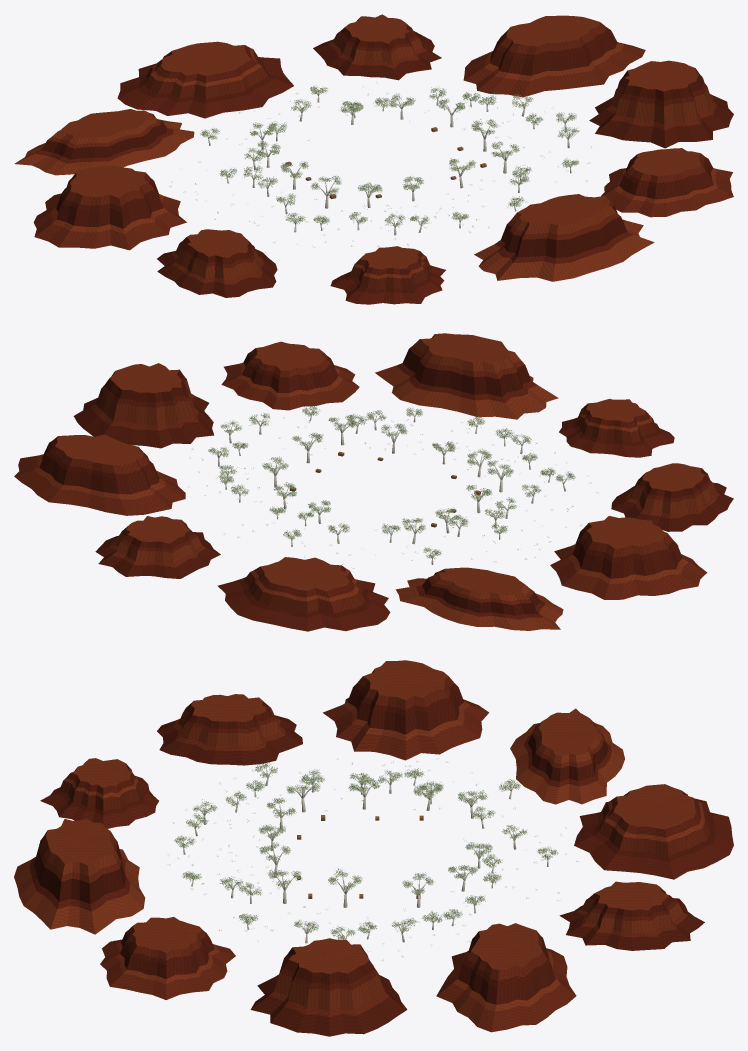
The model's file is smoko_landscape-before-groundcover.glb.
The picture shows the model from 3 angles, top to bottom: view 1: azimuth 30°, elevation 25°; view 2: azimuth 150°, elevation 25°; view 3: azimuth 270°, elevation 25°; orthographic projection. The views are drawn at different scales.
Visible parts, largest first — view 1: Gums scrub and distant mesas.006; view 2: Gums scrub and distant mesas.006; view 3: Gums scrub and distant mesas.006.
Boxes of the visible parts, x1=… form: Gums scrub and distant mesas.006: x1=14, y1=14, x2=733, y2=304; Gums scrub and distant mesas.006: x1=14, y1=333, x2=733, y2=631; Gums scrub and distant mesas.006: x1=14, y1=660, x2=733, y2=1036.
Size of the model in its own units: 264 by 16.16 by 226.
Materials: 10 (6 with a texture image).
